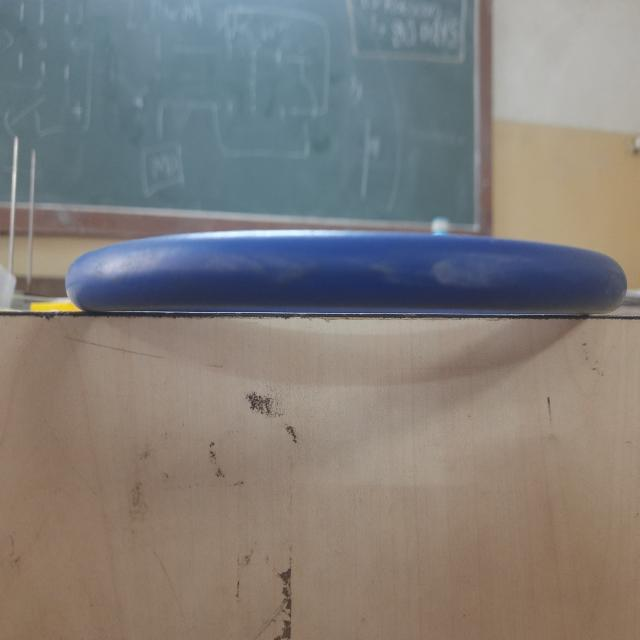daire: (71, 236, 609, 309)
